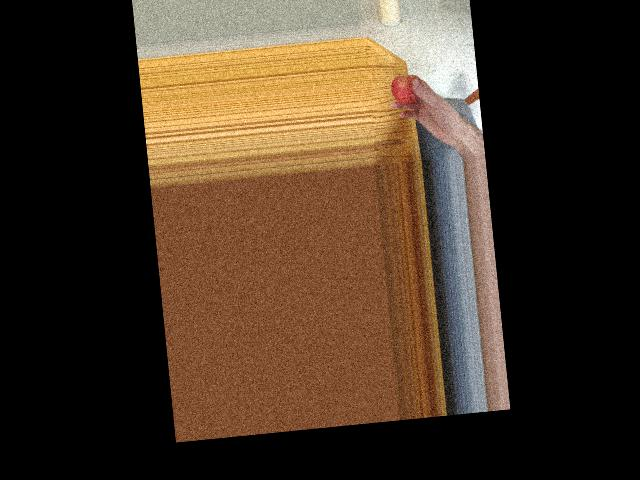apple: (391, 71, 423, 105)
